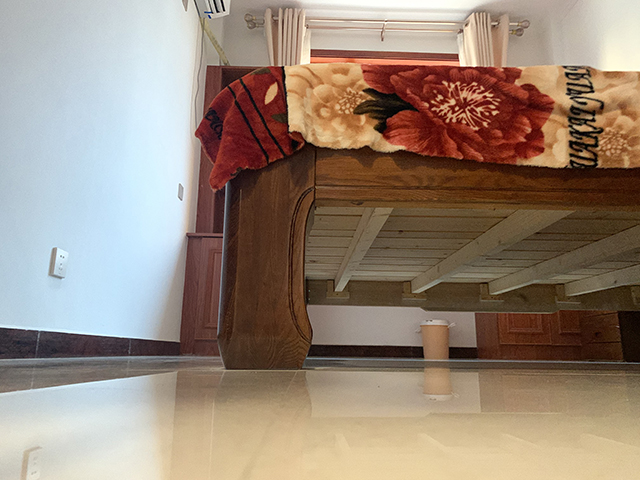bed: (194, 63, 639, 371)
cabinet: (474, 313, 580, 363), (579, 309, 640, 364)
trashcan: (415, 318, 456, 362)
